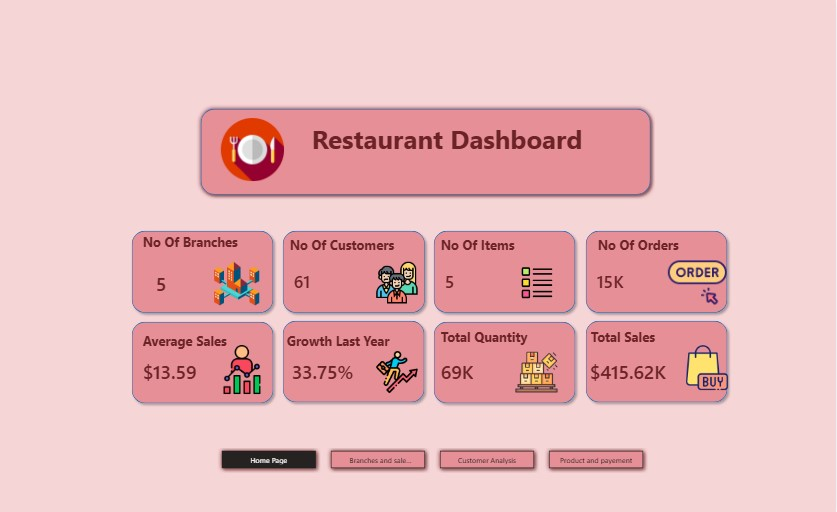

Layout of this report page (visuals, bound fields, positions):
{"tool":"powerbi","page":{"name":"Home Page","canvas":[1550,950],"ordinal":0},"visuals":[{"type":"group","id":"g1","title":"Group 1","box":[236.7,418.3,1131.7,336.7],"z":0},{"type":"shape","box":[237.5,418.3,279.7,169.7],"z":0,"group":"g1"},{"type":"shape","box":[515.9,418.3,281,169.7],"z":1000,"group":"g1"},{"type":"shape","box":[796.9,418.3,279.7,169.7],"z":2000,"group":"g1"},{"type":"pageNavigator","box":[403.3,826.7,800,50],"z":2000},{"type":"shape","box":[1077.8,418.3,279.7,169.7],"z":3000,"group":"g1"},{"type":"shape","box":[365,191.7,850.4,176.8],"z":4000},{"type":"cardVisual","fields":{"Data":["Dax_Measures.#branches"]},"box":[261.7,481.8,230,86.6],"z":5000,"group":"g1"},{"type":"textbox","box":[261.3,426.2,265.3,57.6],"z":6000,"group":"g1"},{"type":"textbox","box":[533.1,431.6,264.2,57.1],"z":7000,"group":"g1"},{"type":"cardVisual","fields":{"Data":["Dax_Measures.#Customers"]},"box":[516,418.3,279.9,199.9],"z":8000,"group":"g1"},{"type":"cardVisual","fields":{"Data":["Dax_Measures.#items"]},"box":[795.9,418.3,279.9,199.9],"z":9000,"group":"g1"},{"type":"textbox","box":[813.1,431.6,264.2,57.1],"z":10000,"group":"g1"},{"type":"textbox","box":[1104,431.6,264.4,57.7],"z":11000,"group":"g1"},{"type":"cardVisual","fields":{"Data":["Dax_Measures.#Orders"]},"box":[1077.3,418.3,279.9,199.9],"z":12000,"group":"g1"},{"type":"textbox","box":[574.6,217.7,850.4,234],"z":13000},{"type":"image","box":[365,217.7,209.6,117],"z":14000},{"type":"image","box":[376.7,479.6,125,88.8],"z":15000,"group":"g1"},{"type":"image","box":[1229.8,468.5,126.6,108.8],"z":16000,"group":"g1"},{"type":"image","box":[694.9,484,85,79.9],"z":17000,"group":"g1"},{"type":"image","box":[934.9,492.9,121.6,62.2],"z":18000,"group":"g1"},{"type":"shape","box":[516.6,585.3,279.9,168.8],"z":19000,"group":"g1"},{"type":"shape","box":[796.6,586.2,279.9,168.8],"z":20000,"group":"g1"},{"type":"shape","box":[1078.2,585.3,279.9,168.8],"z":21000,"group":"g1"},{"type":"shape","box":[236.7,586.2,279.9,168.8],"z":22000,"group":"g1"},{"type":"cardVisual","fields":{"Data":["Dax_Measures.Avgerage_Sales","Dax_Measures.Growth_LY_%","Dax_Measures.Total_Quantity","Dax_Measures.Total_Sales"]},"box":[236.7,632.8,1131.4,108.8],"z":23000,"group":"g1"},{"type":"textbox","box":[261.7,608.4,180,62.2],"z":24000,"group":"g1"},{"type":"textbox","box":[526.6,608.4,244.9,108.8],"z":25000,"group":"g1"},{"type":"textbox","box":[813.2,601.7,203.3,62.2],"z":26000,"group":"g1"},{"type":"textbox","box":[1089.9,601.7,180,62.2],"z":27000,"group":"g1"},{"type":"image","box":[946.6,650.6,98.3,77.7],"z":28000,"group":"g1"},{"type":"image","box":[1259.8,639.5,96.6,84.4],"z":29000,"group":"g1"},{"type":"image","box":[694.9,650.6,85,77.7],"z":30000,"group":"g1"},{"type":"image","box":[393.3,639.5,111.6,91.1],"z":31000,"group":"g1"}]}

Visuals, with their boxes in screenshot pixels (x1, y1, x2, y2), scaled from the page's 1550x950 canvas onto the 837x512 screenshot:
"Group 1" group: select_region(128, 225, 739, 407)
shape: select_region(128, 225, 279, 317)
shape: select_region(279, 225, 430, 317)
shape: select_region(430, 225, 581, 317)
pageNavigator: select_region(218, 446, 650, 472)
shape: select_region(582, 225, 733, 317)
shape: select_region(197, 103, 656, 199)
cardVisual - Dax_Measures.#branches: select_region(141, 260, 266, 306)
textbox: select_region(141, 230, 284, 261)
textbox: select_region(288, 233, 431, 263)
cardVisual - Dax_Measures.#Customers: select_region(279, 225, 430, 333)
cardVisual - Dax_Measures.#items: select_region(430, 225, 581, 333)
textbox: select_region(439, 233, 582, 263)
textbox: select_region(596, 233, 739, 264)
cardVisual - Dax_Measures.#Orders: select_region(582, 225, 733, 333)
textbox: select_region(310, 117, 770, 243)
image: select_region(197, 117, 310, 180)
image: select_region(203, 258, 271, 306)
image: select_region(664, 252, 732, 311)
image: select_region(375, 261, 421, 304)
image: select_region(505, 266, 571, 299)
shape: select_region(279, 315, 430, 406)
shape: select_region(430, 316, 581, 407)
shape: select_region(582, 315, 733, 406)
shape: select_region(128, 316, 279, 407)
cardVisual - Dax_Measures.Avgerage_Sales x Dax_Measures.Growth_LY_%: select_region(128, 341, 739, 400)
textbox: select_region(141, 328, 239, 361)
textbox: select_region(284, 328, 417, 387)
textbox: select_region(439, 324, 549, 358)
textbox: select_region(589, 324, 686, 358)
image: select_region(511, 351, 564, 393)
image: select_region(680, 345, 732, 390)
image: select_region(375, 351, 421, 393)
image: select_region(212, 345, 273, 394)
